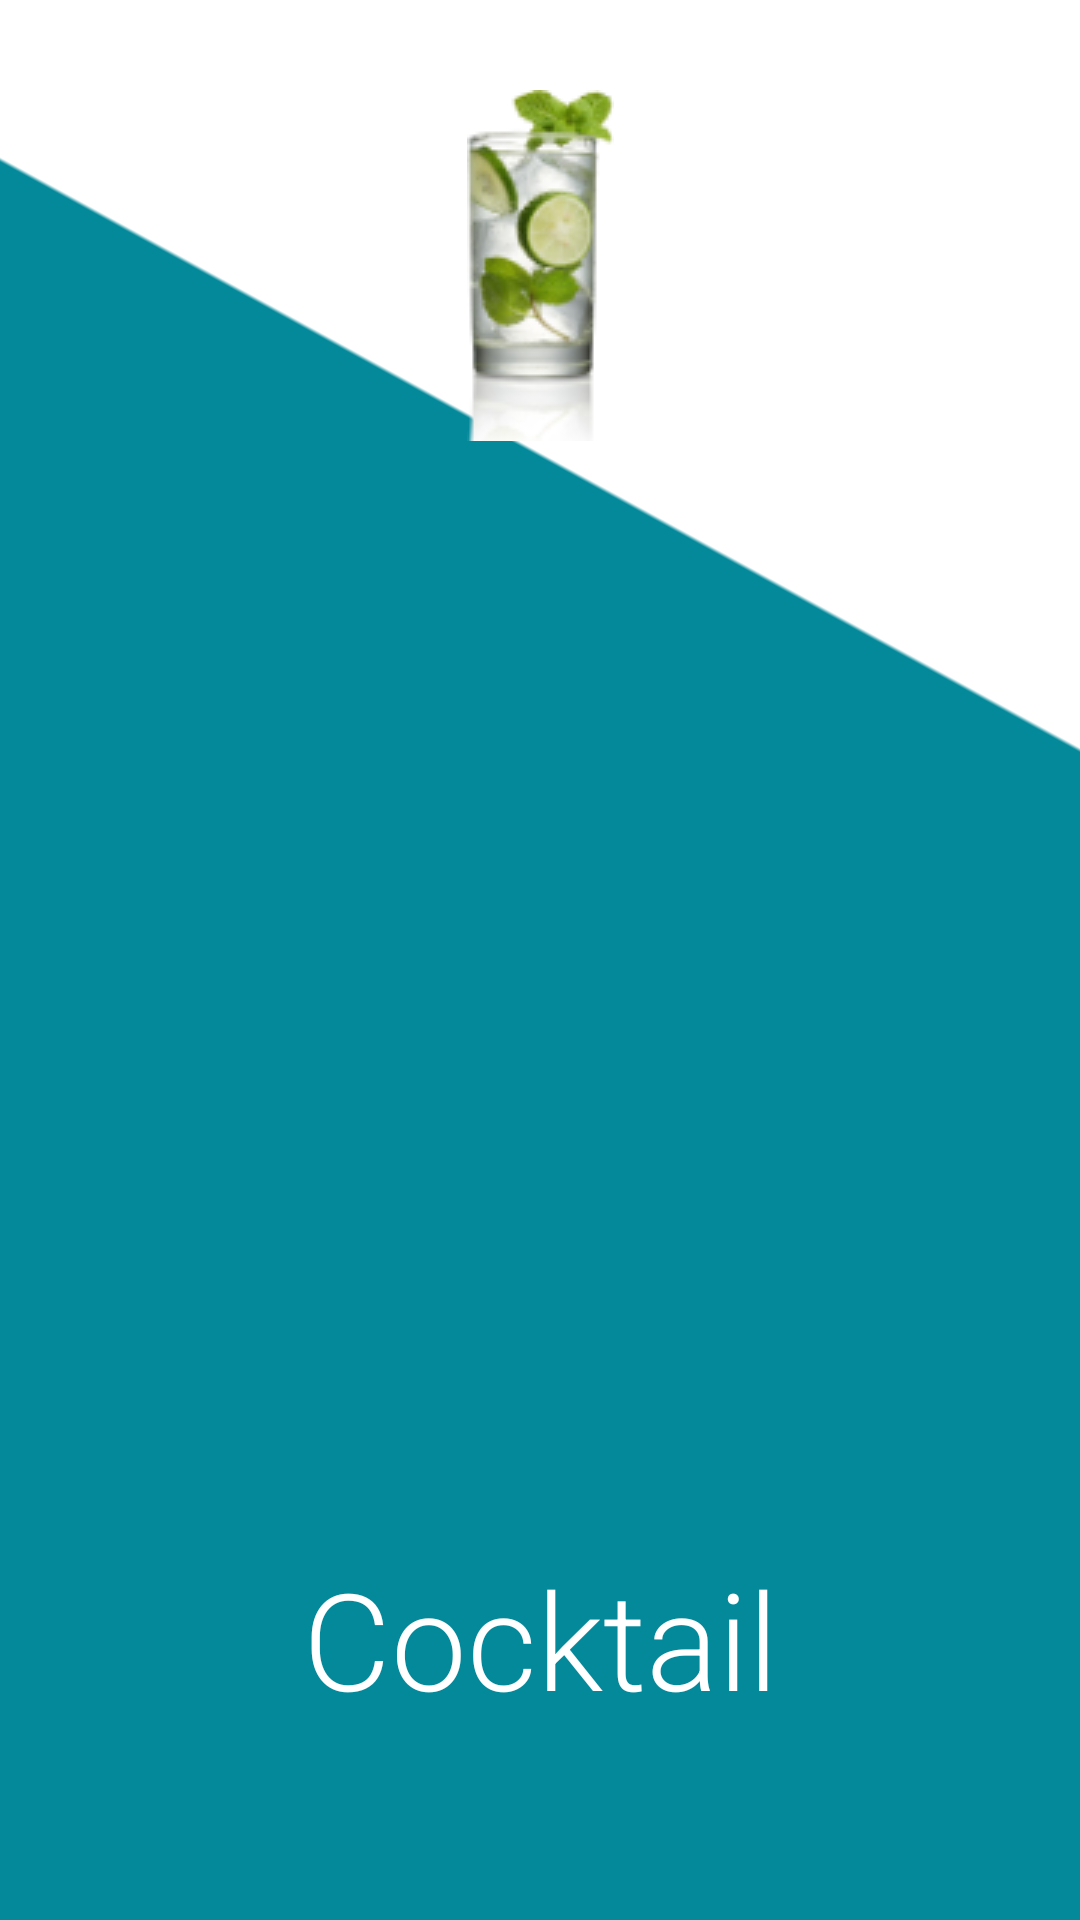

Locate icon controls on the screen. Image size 1080*1920, boxes as (x1, y1, x2, y2).
im cock: (467, 90, 614, 419)
